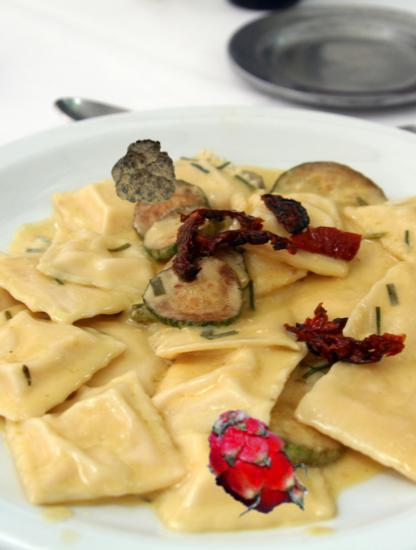Cauliflower: (108, 139, 179, 210)
Pitahaya: (193, 402, 321, 530)
